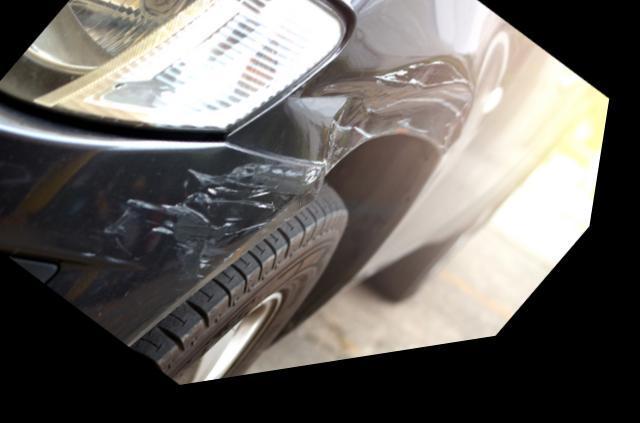dent: (293, 50, 477, 181)
scratch: (110, 168, 335, 294)
